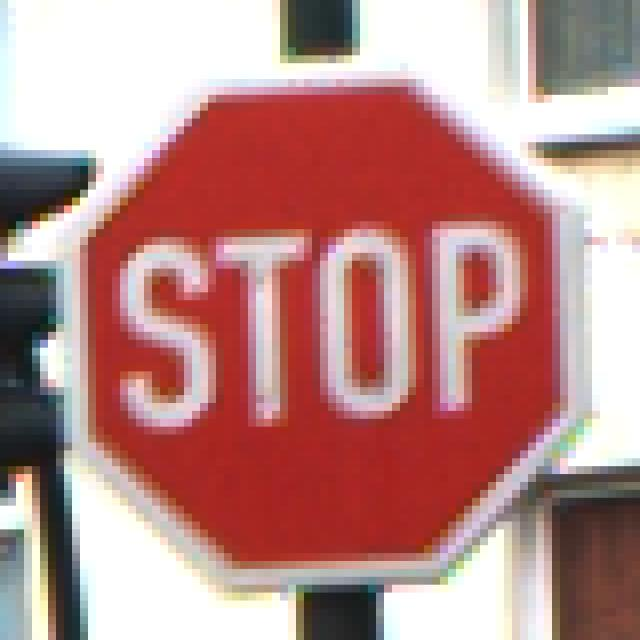STOP: (57, 56, 577, 578)
